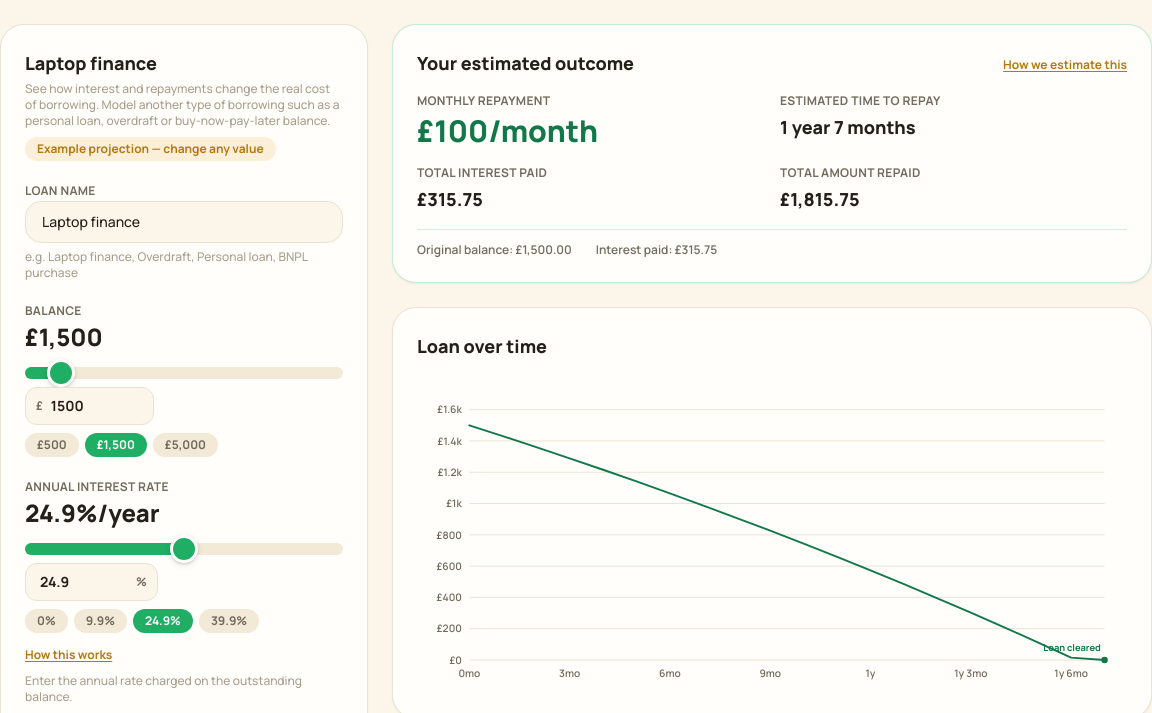
CustomLoanPanel - editing the example › falls back to 'Custom loan' as the heading when the loan name is cleared
Clear the field labelled "Loan name" at (184, 222), box [25,201,343,243]
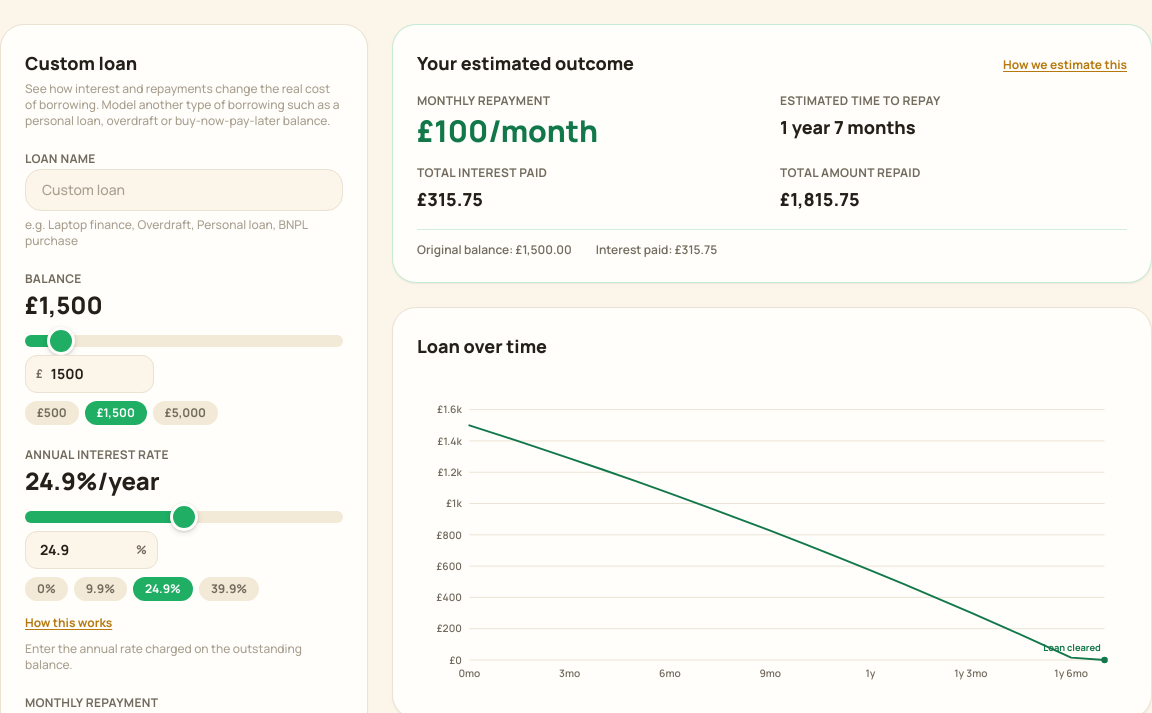
Expected: the heading "Custom loan" is shown, [25,51,137,75]
